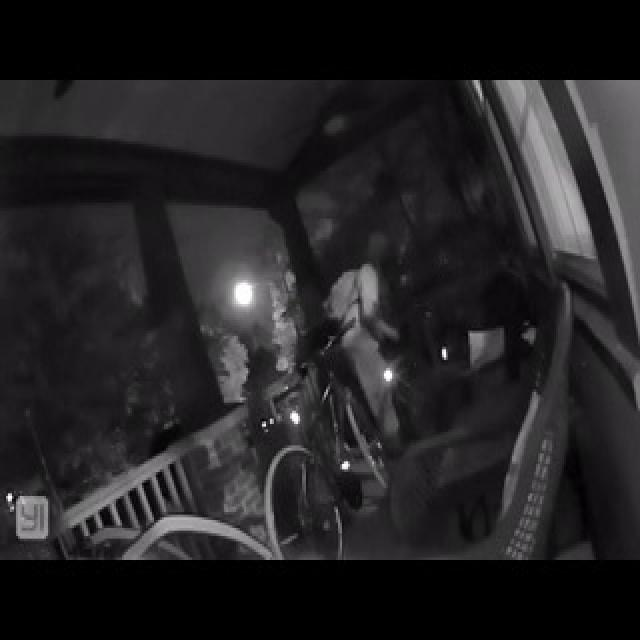thief: (332, 260, 390, 348)
